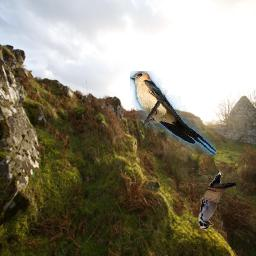Swallow: (130, 71, 216, 155)
Woodpecker: (198, 171, 236, 229)
